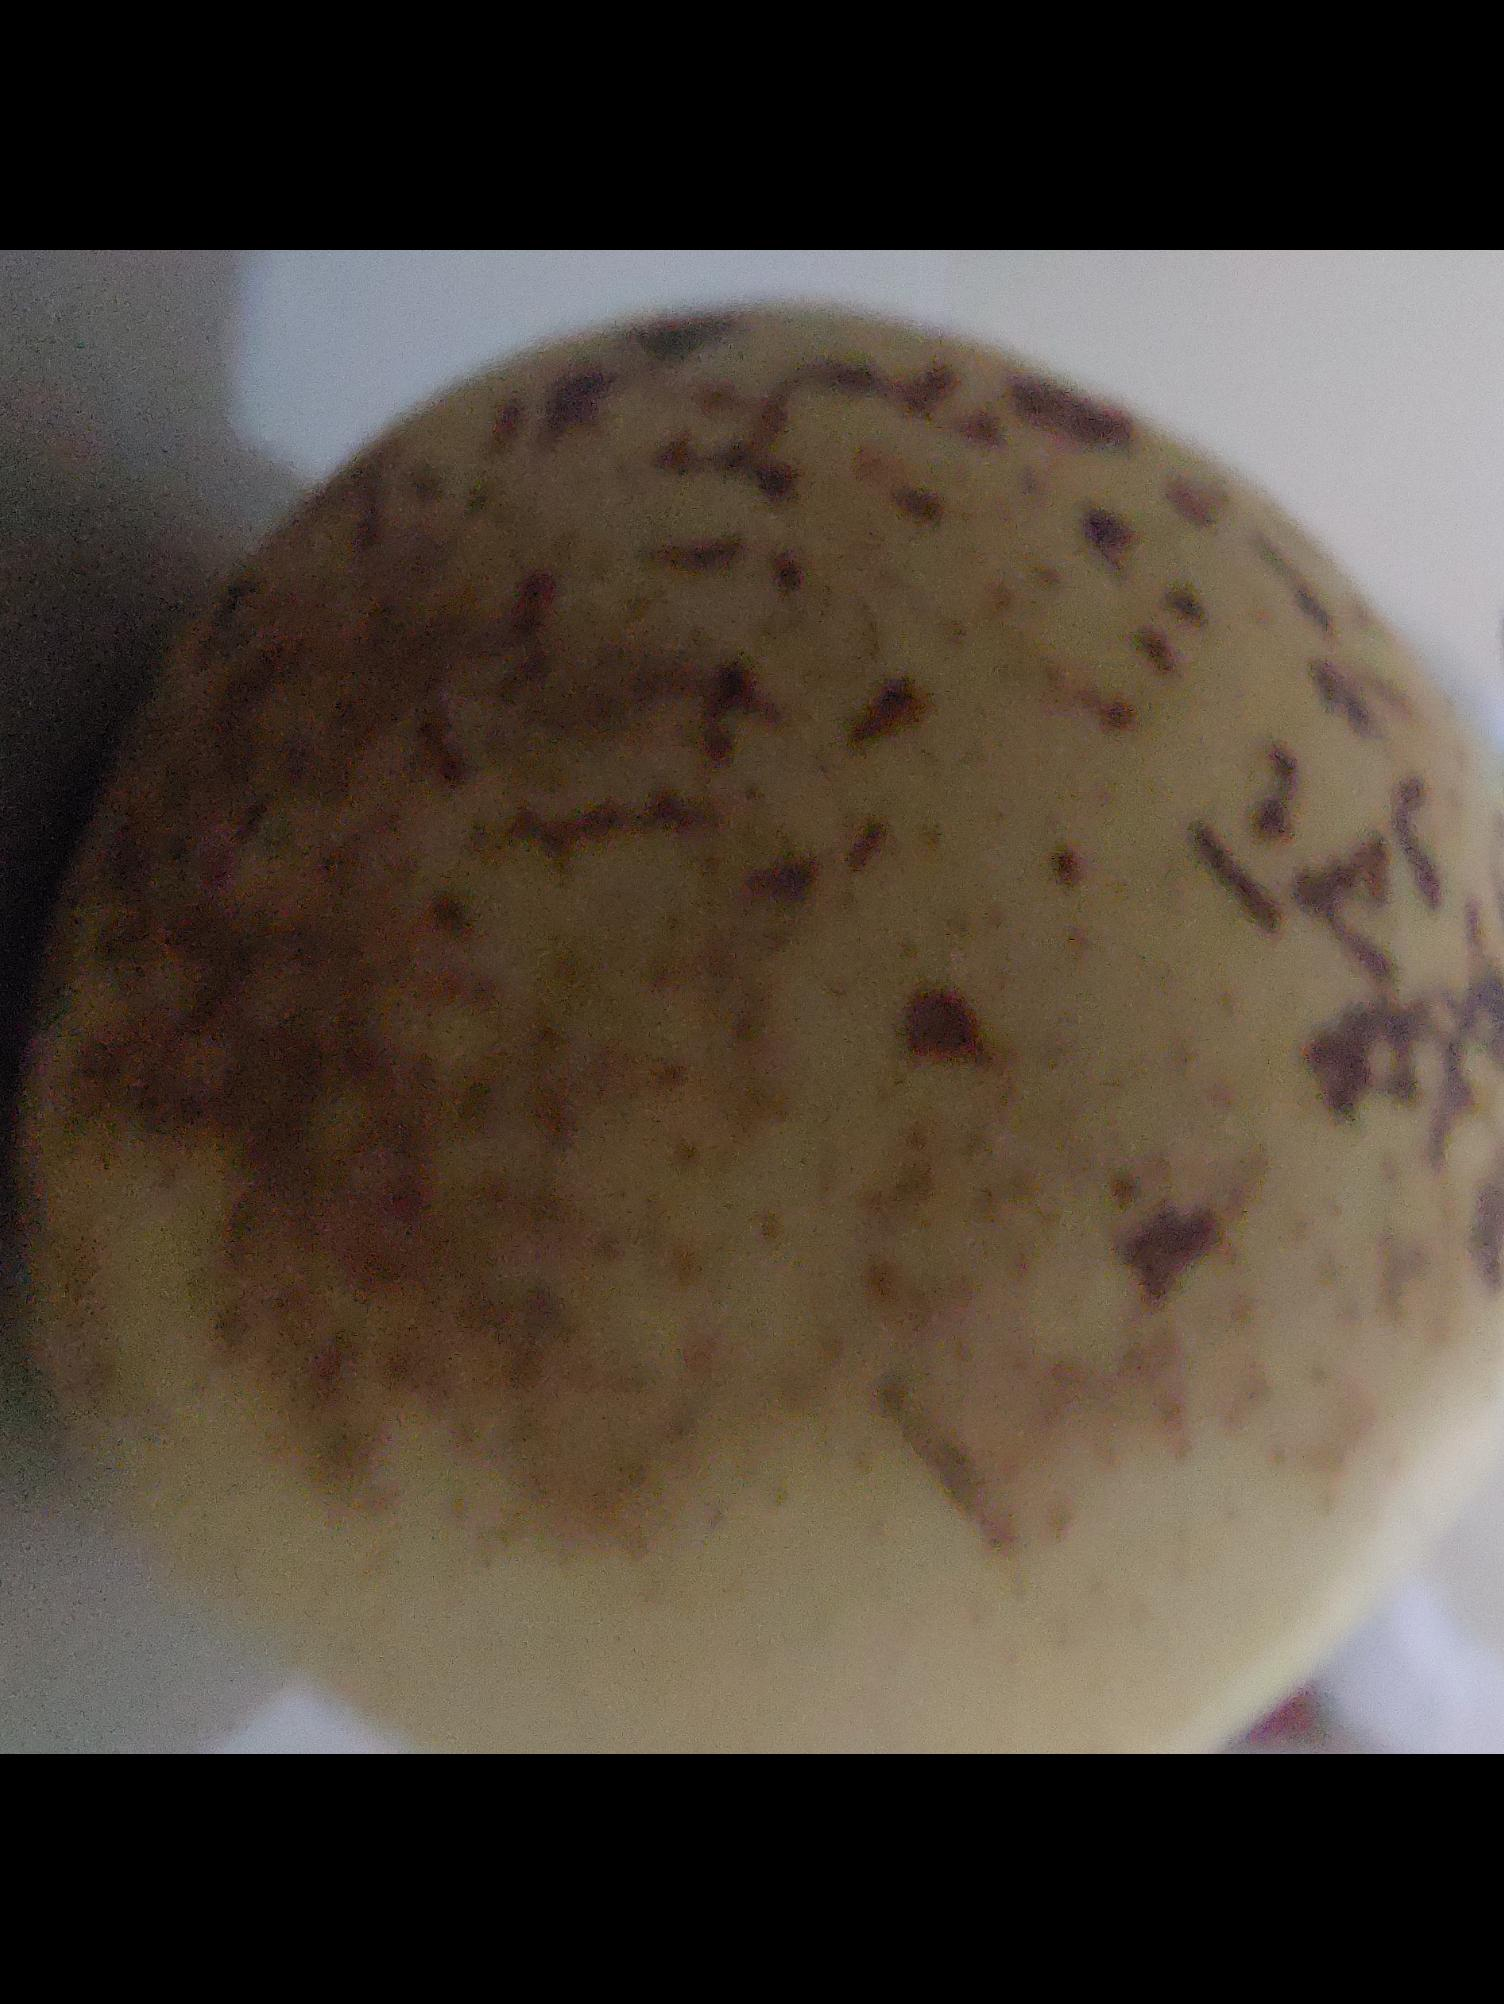Bad Pear: (71, 305, 1504, 1674)
